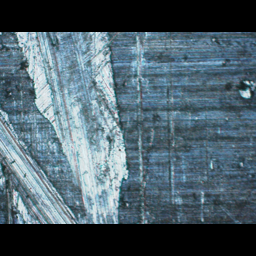d: (0, 32, 134, 223), (226, 75, 255, 102)
